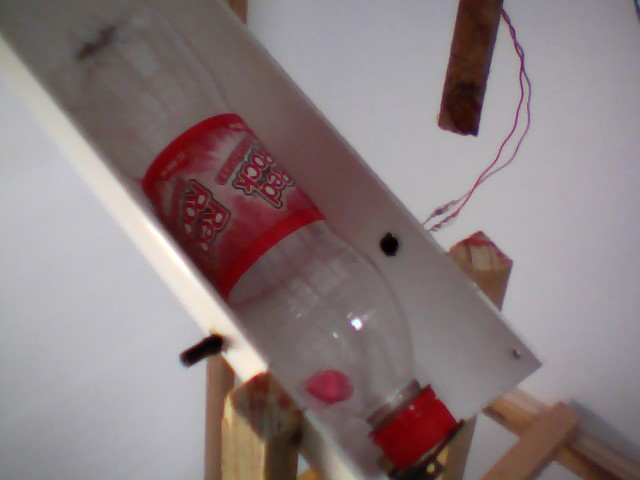plastico: (47, 5, 470, 475)
